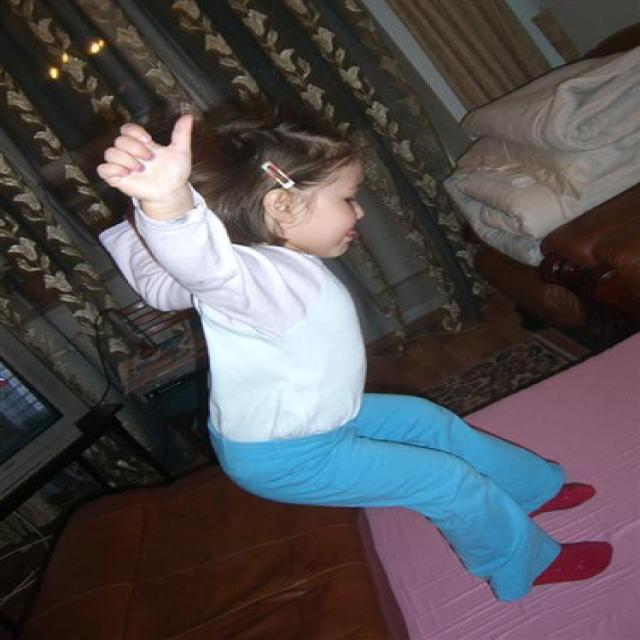chair: (462, 20, 639, 354)
person: (92, 103, 616, 599)
tvmonitor: (1, 321, 93, 504)
